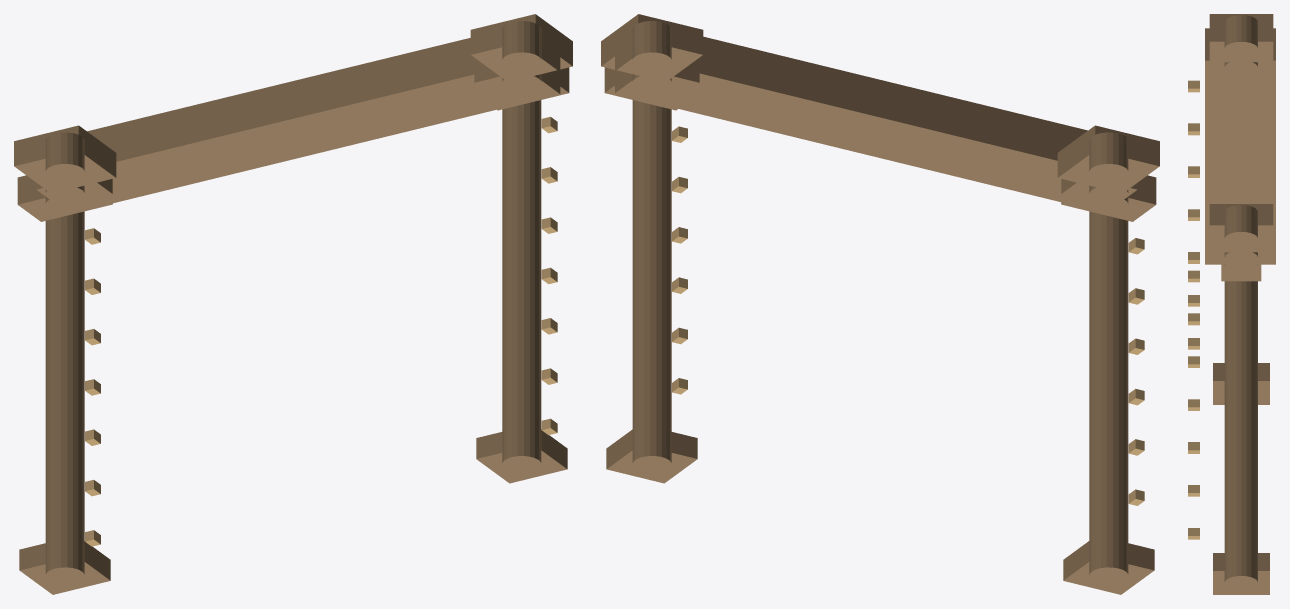
File: oceanic_carved_wood.glb
The picture shows the model from 3 angles, left to right: view 1: azimuth 30°, elevation 25°; view 2: azimuth 150°, elevation 25°; view 3: azimuth 270°, elevation 25°; orthographic projection. The views are drawn at different scales.
Parts seen in each view (by area): view 1: oceanic_carved_wood; view 2: oceanic_carved_wood; view 3: oceanic_carved_wood.
Part boxes in pixels (x1,y1,x2,y2): oceanic_carved_wood: [14, 14, 572, 594]; oceanic_carved_wood: [601, 14, 1159, 594]; oceanic_carved_wood: [1188, 14, 1275, 594].
Size of the model in its own units: 5.27 by 4.15 by 0.89.
